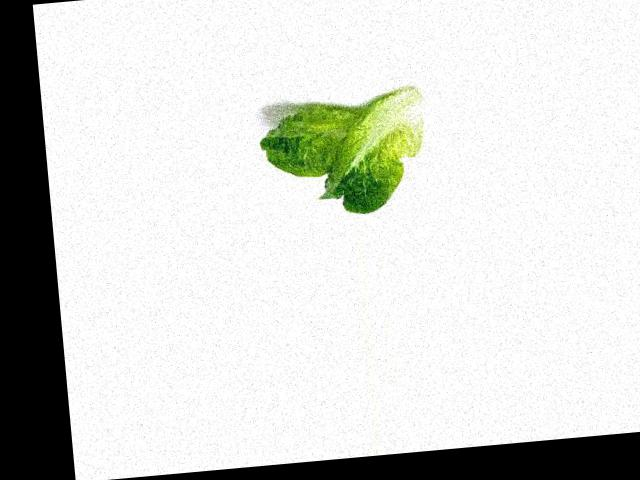lettuce: (259, 87, 431, 217)
